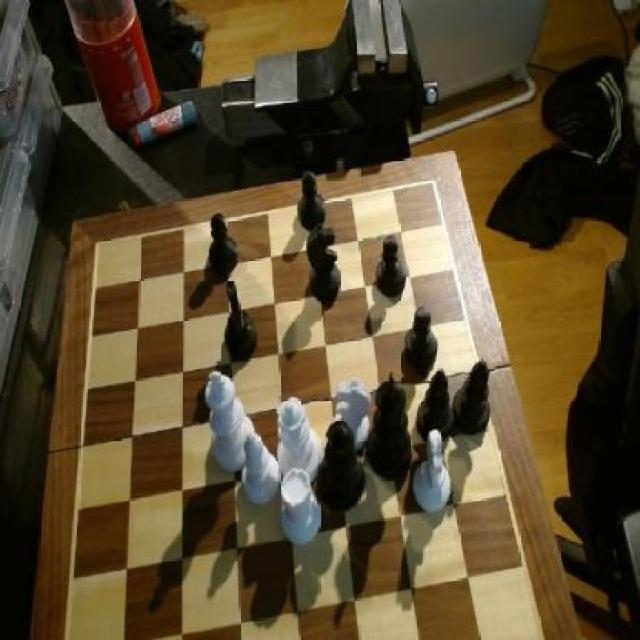bishop: (454, 356, 495, 442), (417, 366, 457, 445)
black-bishop: (368, 372, 413, 480)
black-king: (304, 224, 346, 306), (222, 275, 260, 360)
black-knight: (374, 236, 410, 302), (403, 308, 440, 372), (208, 214, 242, 276), (297, 170, 328, 232)
black-pawn: (318, 418, 369, 511)
black-rook: (242, 435, 280, 508)
white-bishop: (202, 369, 258, 476)
white-king: (411, 428, 452, 516), (334, 377, 373, 454)
white-pawn: (277, 394, 322, 481)
white-queen: (278, 468, 322, 545)
